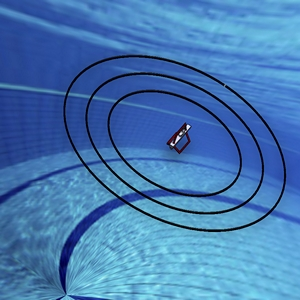circle: (53, 43, 291, 249)
submarine: (163, 115, 199, 166)
